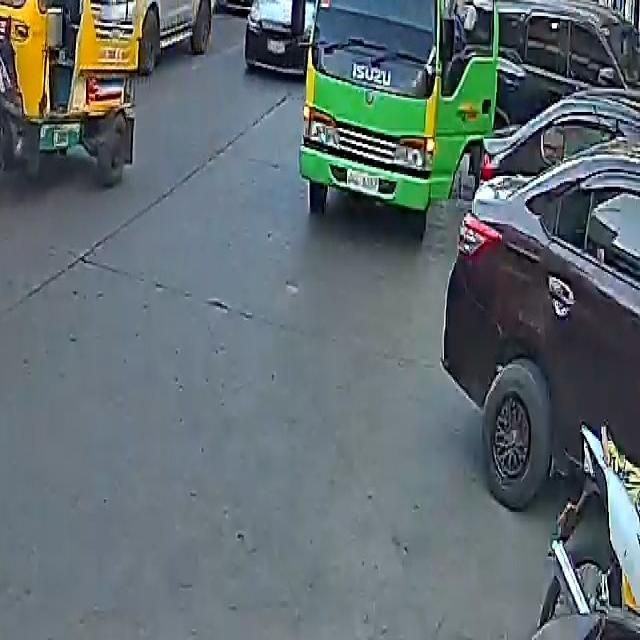car: (443, 75, 640, 526), (243, 0, 324, 75), (131, 0, 218, 59), (217, 0, 288, 16)
